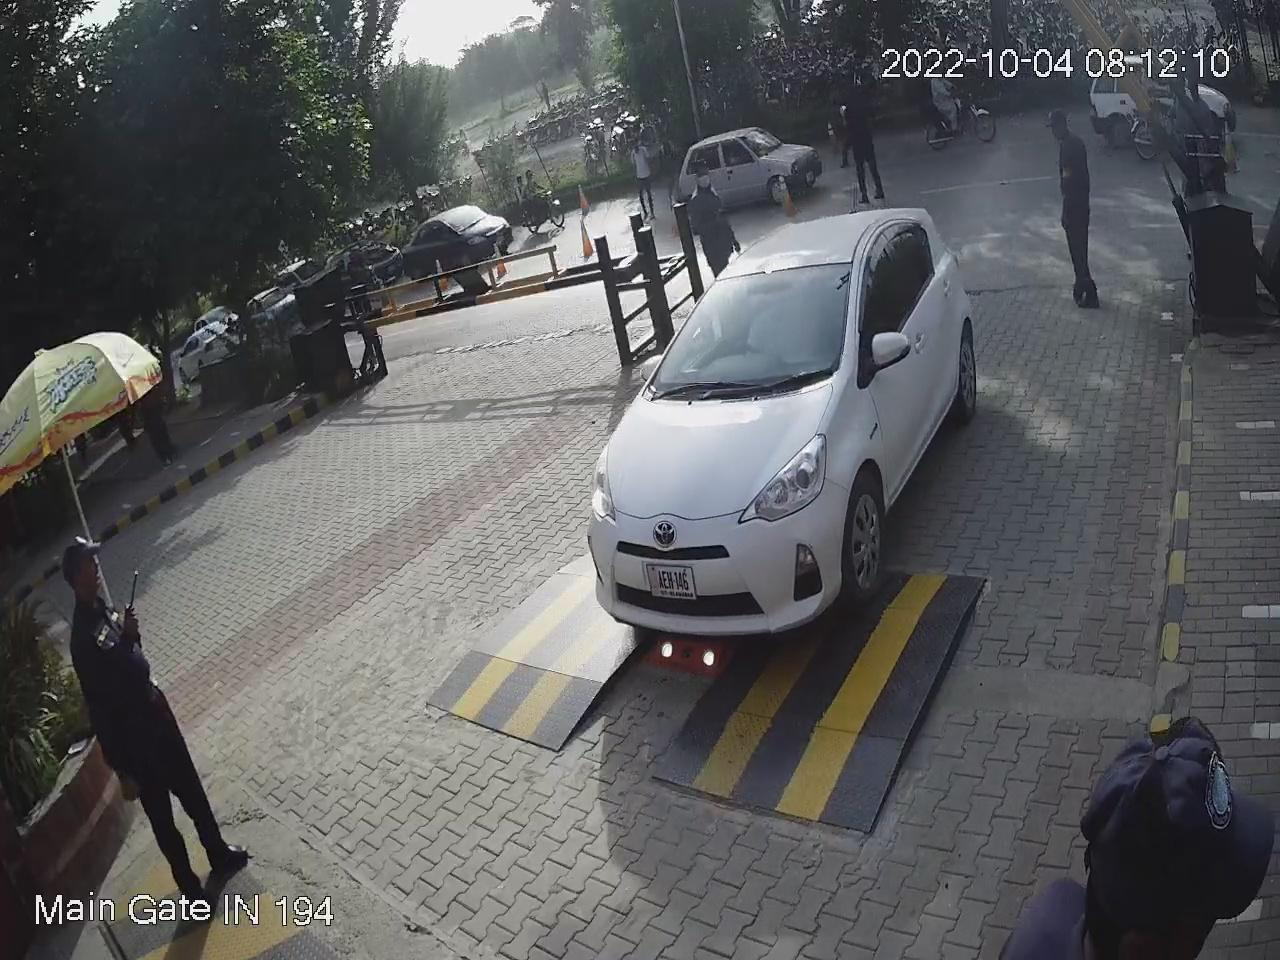windshield: (633, 245, 859, 400)
